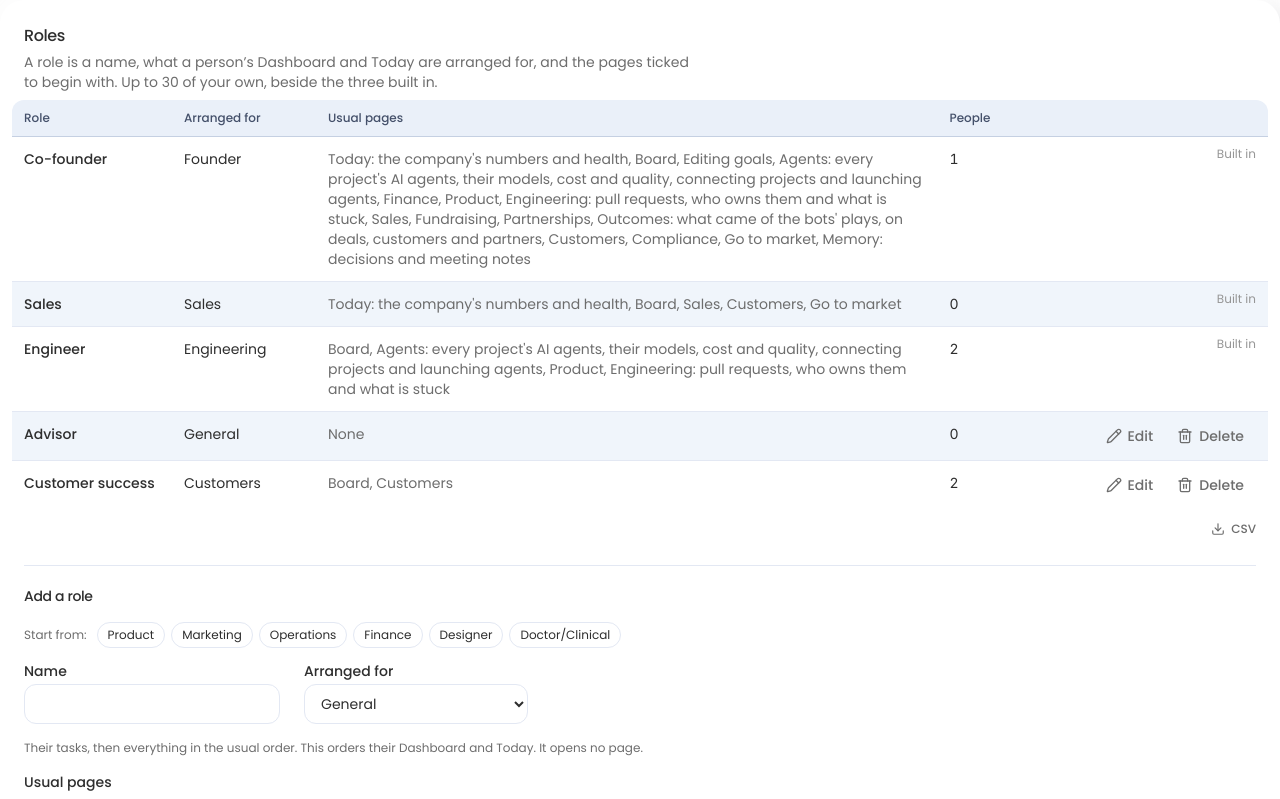
it: the Roles card › deleting asks first, and a refusal is shown
Click the button named "Delete Advisor" at (1211, 436), box [1165,418,1256,454]
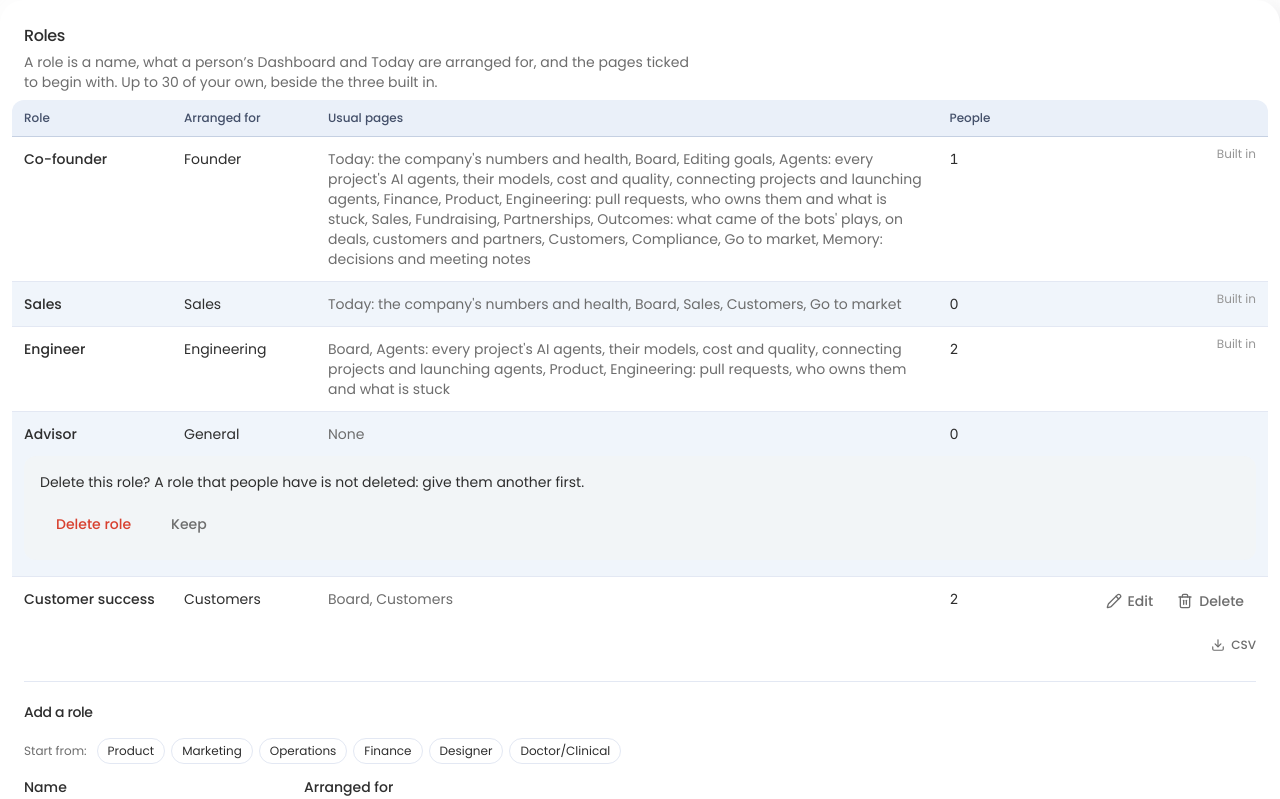
Click the button "Keep" at (189, 524), box [155,504,223,544]
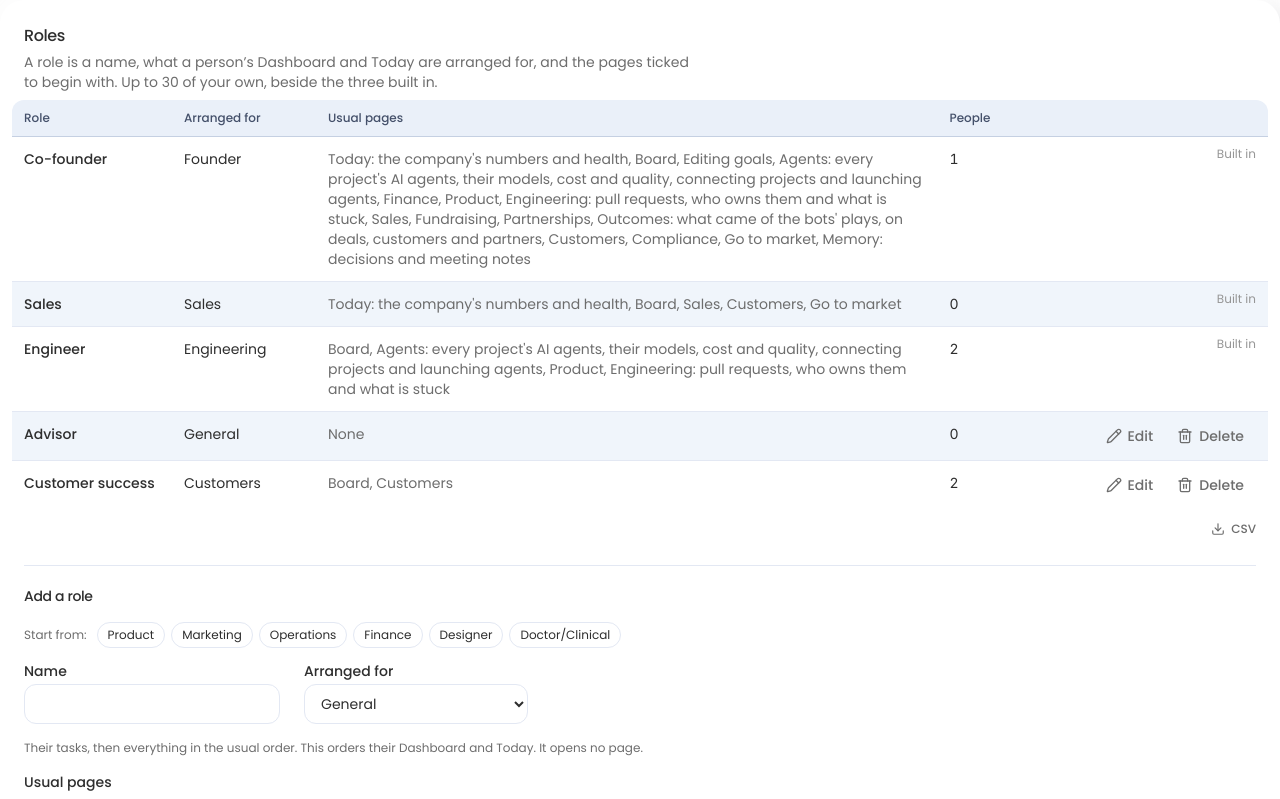
Click the button named "Delete Customer success" at (1211, 485), box [1165,467,1256,503]
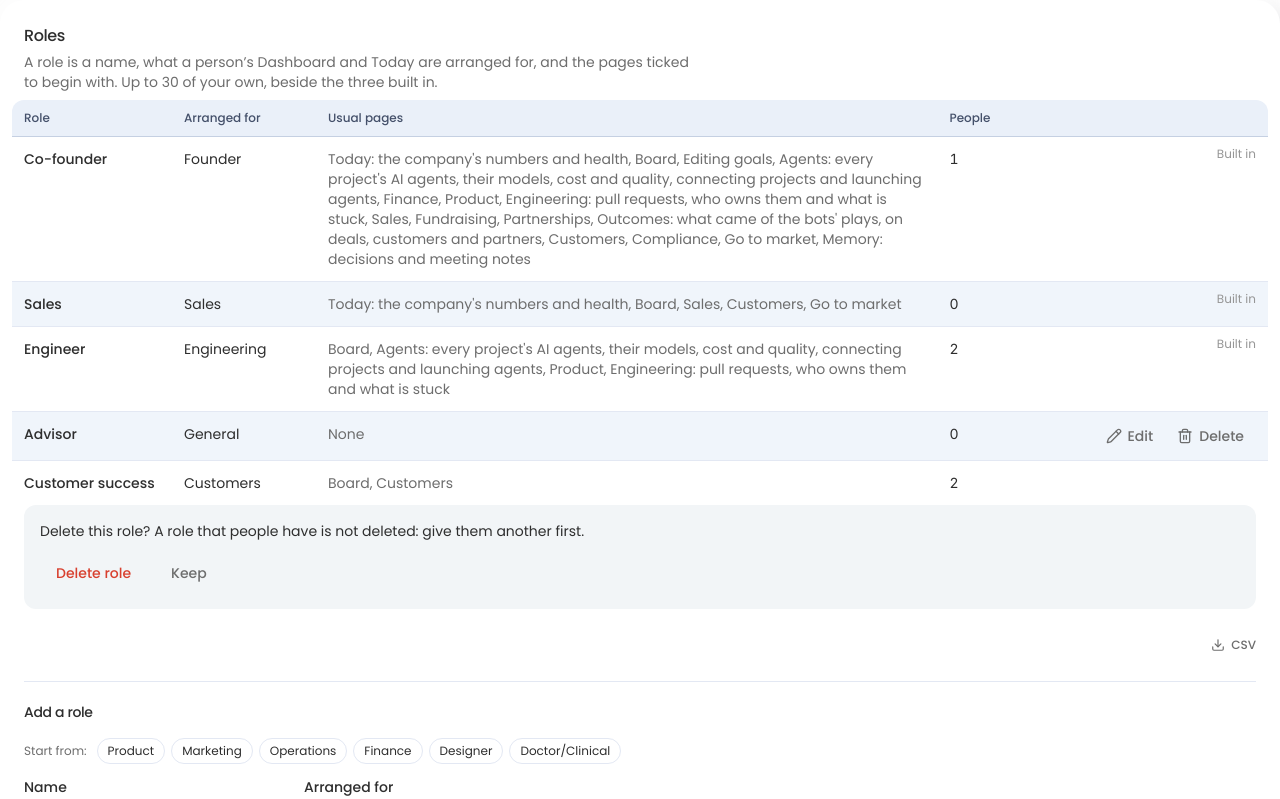
Click the button "Delete role" at (94, 573), box [40,553,147,593]
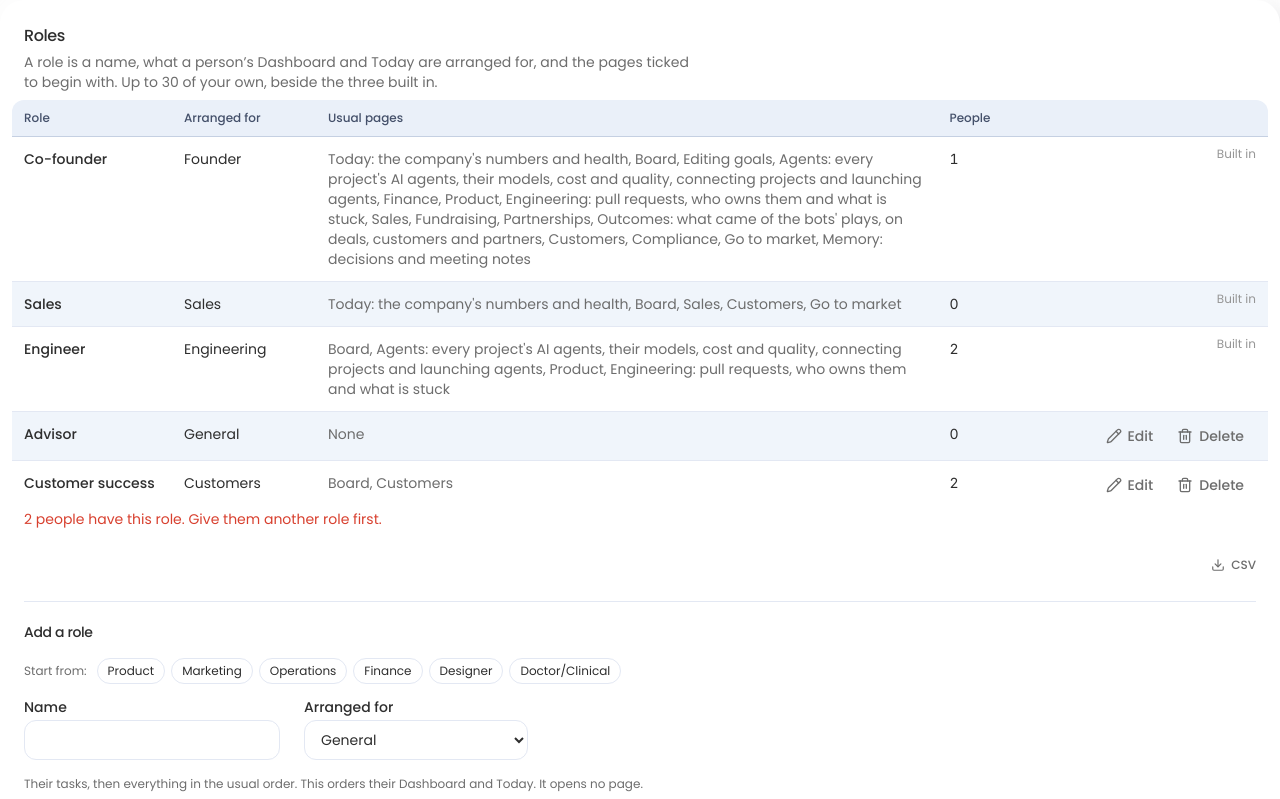
Check: the message reads "2 people have this role. Give them another role first.", box [24,509,382,529]
